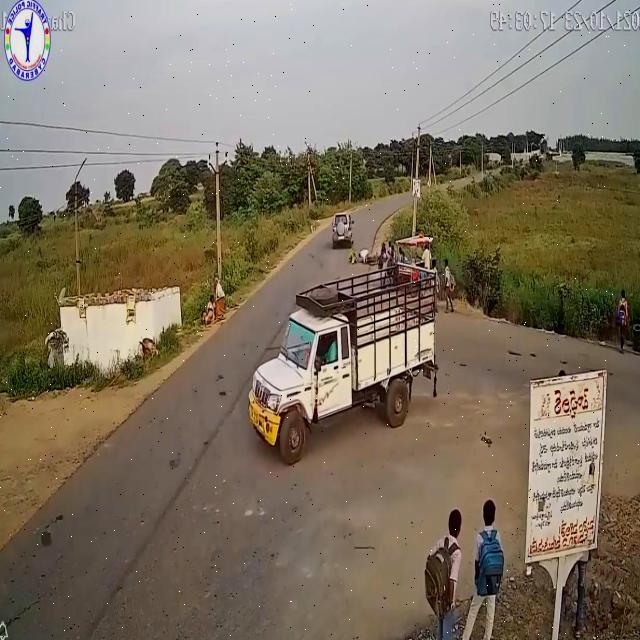accident: (327, 210, 382, 272)
